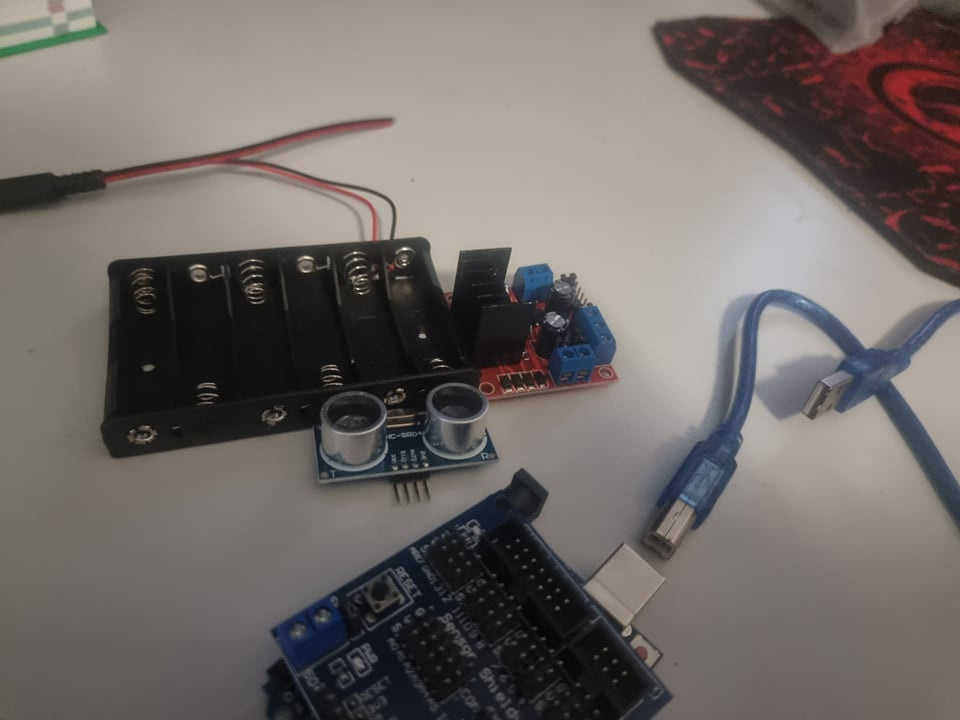5V EXPANSION: (266, 532, 593, 720)
BATTERY BOX: (95, 236, 449, 446)
MOTOR: (453, 244, 631, 400)
SENSOR: (310, 389, 499, 481)
